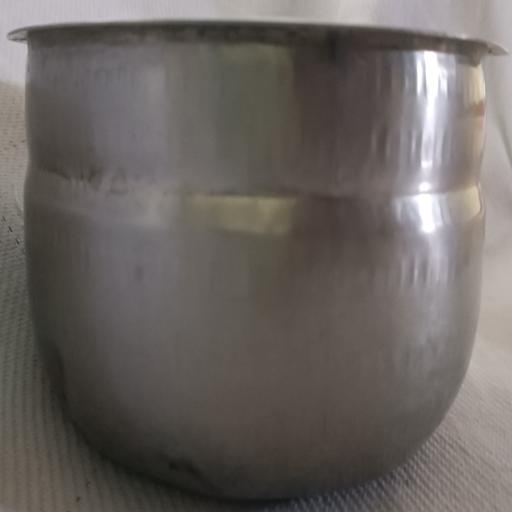vessel: (10, 21, 503, 497)
